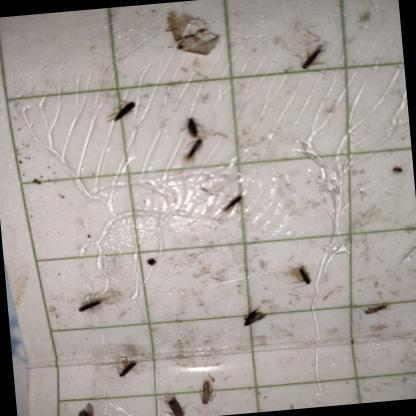prays_oleae: (164, 5, 218, 68), (104, 88, 140, 142), (72, 280, 115, 324), (240, 292, 271, 339), (214, 184, 249, 224), (297, 43, 330, 84), (176, 107, 210, 144), (289, 260, 321, 294), (110, 352, 140, 388), (194, 376, 222, 414), (178, 137, 210, 169), (361, 296, 393, 326), (163, 384, 188, 416), (71, 393, 103, 416), (391, 164, 405, 182), (413, 293, 416, 343)
